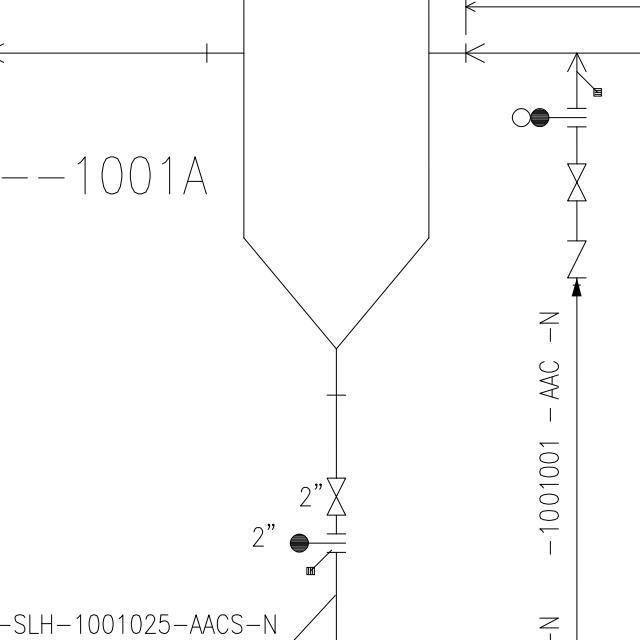GV: (565, 159, 591, 204), (325, 473, 347, 521)
